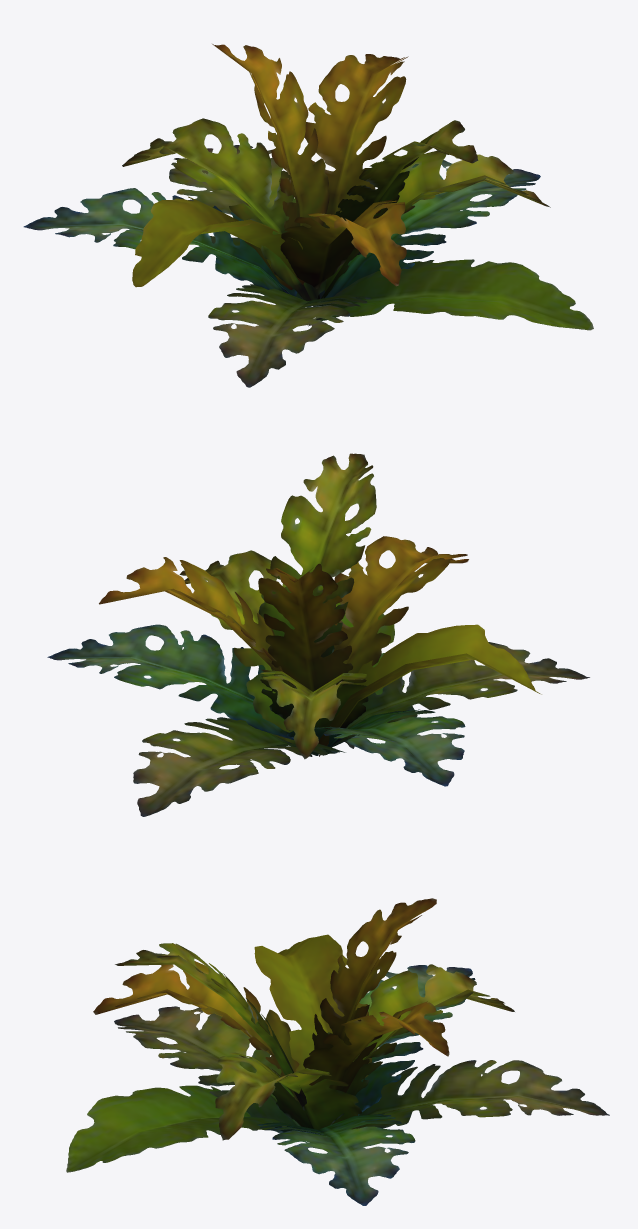
The model's file is bush_3.fbx.
3 views of the same model, one above another, from view 1: azimuth 30°, elevation 25°; view 2: azimuth 150°, elevation 25°; view 3: azimuth 270°, elevation 25° (orthographic). The views are drawn at different scales.
Parts seen in each view (by area): view 1: bush_3; view 2: bush_3; view 3: bush_3.
Boxes of the visible parts, x1,y1,x2,y2 form: bush_3: [23, 44, 593, 387]; bush_3: [47, 453, 589, 816]; bush_3: [66, 898, 609, 1205].
Size of the model in its own units: 1.81 by 0.85 by 1.9.
